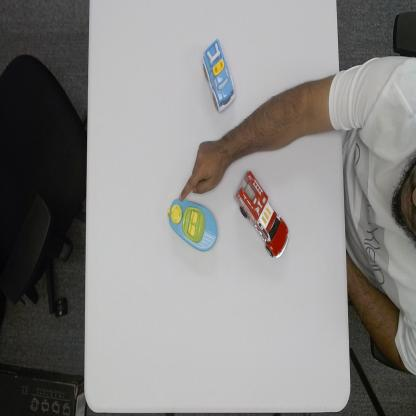Arm: (224, 83, 344, 162)
Boat: (166, 197, 218, 252)
Car: (200, 37, 237, 114)
Firetruck: (234, 168, 291, 261)
Hand: (177, 136, 225, 202)
